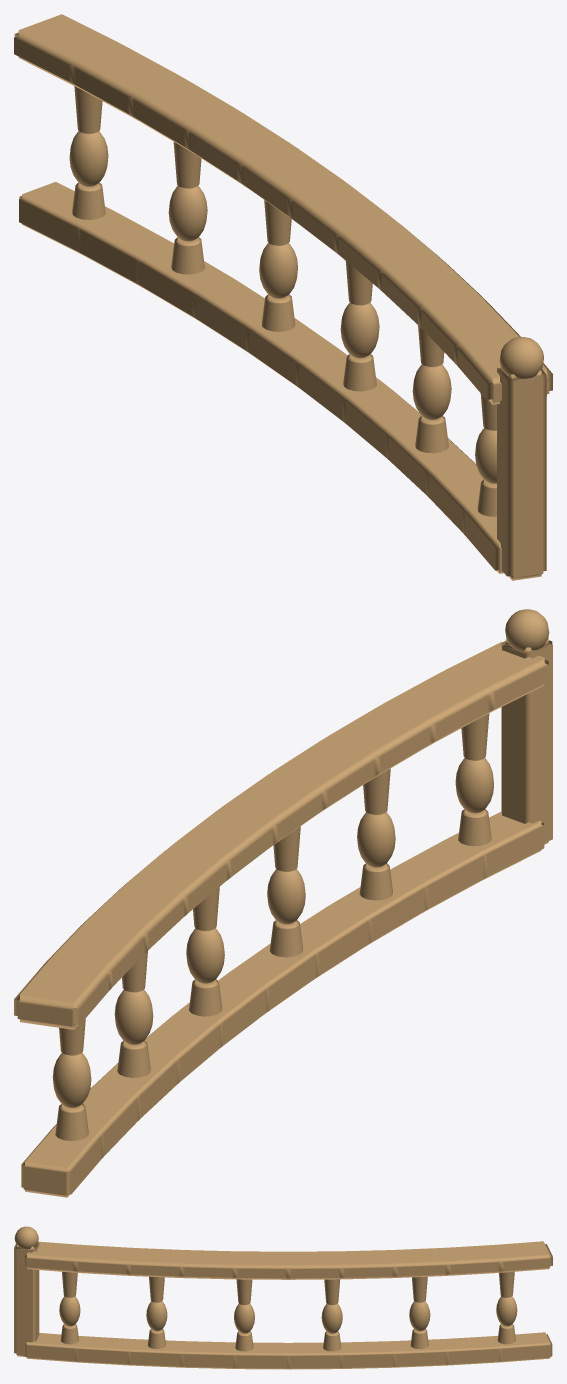
Rendered from boss_baluster_section.glb.
The picture shows the model from 3 angles, top to bottom: view 1: azimuth 30°, elevation 25°; view 2: azimuth 150°, elevation 25°; view 3: azimuth 270°, elevation 25°; orthographic projection. The views are drawn at different scales.
Parts seen in each view (by area): view 1: TopHandrail, BottomPlinth, MidPost, BalBelly_4, BalBelly_2, BalBelly_1, BalBelly_5, BalBelly_3, MidPostCap, BalBase_5, BalBase_4, BalBase_3 (+8 smaller); view 2: TopHandrail, BottomPlinth, MidPost, BalBelly_1, BalBelly_2, BalBelly_0, BalBelly_3, BalBelly_4, BalBelly_5, MidPostCap, BalBase_1, BalBase_3 (+8 smaller); view 3: TopHandrail, BottomPlinth, MidPost, BalBelly_0, BalBelly_1, BalBelly_3, BalBelly_4, BalBelly_5, BalBelly_2, MidPostCap, BalNeck_3, BalNeck_2 (+10 smaller).
Part boxes in pixels (bbox=[...]): TopHandrail: bbox=[14, 14, 552, 404]; BottomPlinth: bbox=[19, 182, 503, 573]; MidPost: bbox=[497, 367, 546, 580]; BalBelly_4: bbox=[168, 185, 207, 241]; BalBelly_2: bbox=[340, 302, 379, 358]; BalBelly_1: bbox=[412, 364, 451, 419]; BalBelly_5: bbox=[69, 131, 108, 186]; BalBelly_3: bbox=[259, 243, 297, 298]; MidPostCap: bbox=[499, 336, 543, 378]; BalBase_5: bbox=[72, 182, 105, 219]; BalBase_4: bbox=[171, 237, 204, 274]; BalBase_3: bbox=[262, 294, 295, 331]; TopHandrail: bbox=[14, 642, 549, 1029]; BottomPlinth: bbox=[21, 812, 544, 1197]; MidPost: bbox=[501, 638, 552, 844]; BalBelly_1: bbox=[357, 812, 395, 867]; BalBelly_2: bbox=[267, 869, 305, 924]; BalBelly_0: bbox=[455, 758, 493, 813]; BalBelly_3: bbox=[186, 928, 224, 983]; BalBelly_4: bbox=[114, 990, 153, 1044]; BalBelly_5: bbox=[52, 1053, 91, 1107]; MidPostCap: bbox=[505, 609, 549, 650]; BalBase_1: bbox=[359, 863, 392, 900]; BalBase_3: bbox=[189, 979, 222, 1016]; TopHandrail: bbox=[23, 1241, 552, 1279]; BottomPlinth: bbox=[24, 1332, 552, 1369]; MidPost: bbox=[14, 1242, 39, 1356]; BalBelly_0: bbox=[59, 1296, 80, 1326]; BalBelly_1: bbox=[146, 1301, 167, 1331]; BalBelly_3: bbox=[321, 1303, 342, 1333]; BalBelly_4: bbox=[409, 1301, 430, 1331]; BalBelly_5: bbox=[496, 1296, 517, 1326]; BalBelly_2: bbox=[234, 1304, 254, 1333]; MidPostCap: bbox=[14, 1226, 38, 1249]; BalNeck_3: bbox=[324, 1279, 340, 1305]; BalNeck_2: bbox=[236, 1279, 252, 1305].
Size of the model in its own units: 0.8275 by 1.84 by 7.13.
